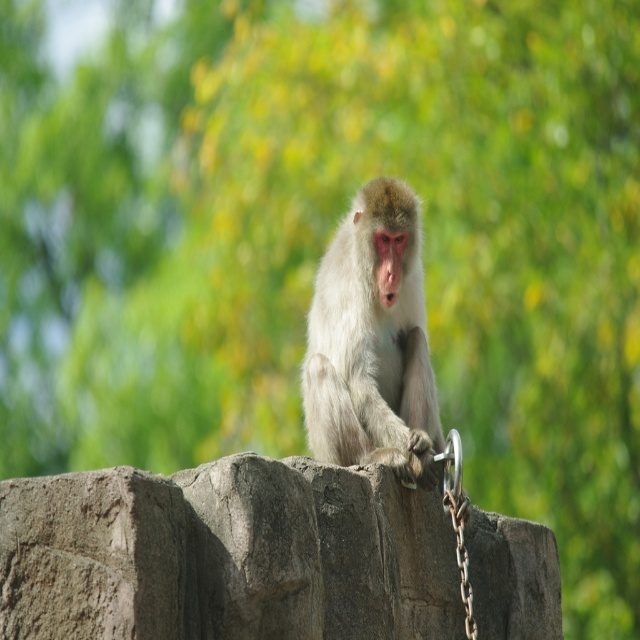Monkey: (303, 176, 454, 502)
